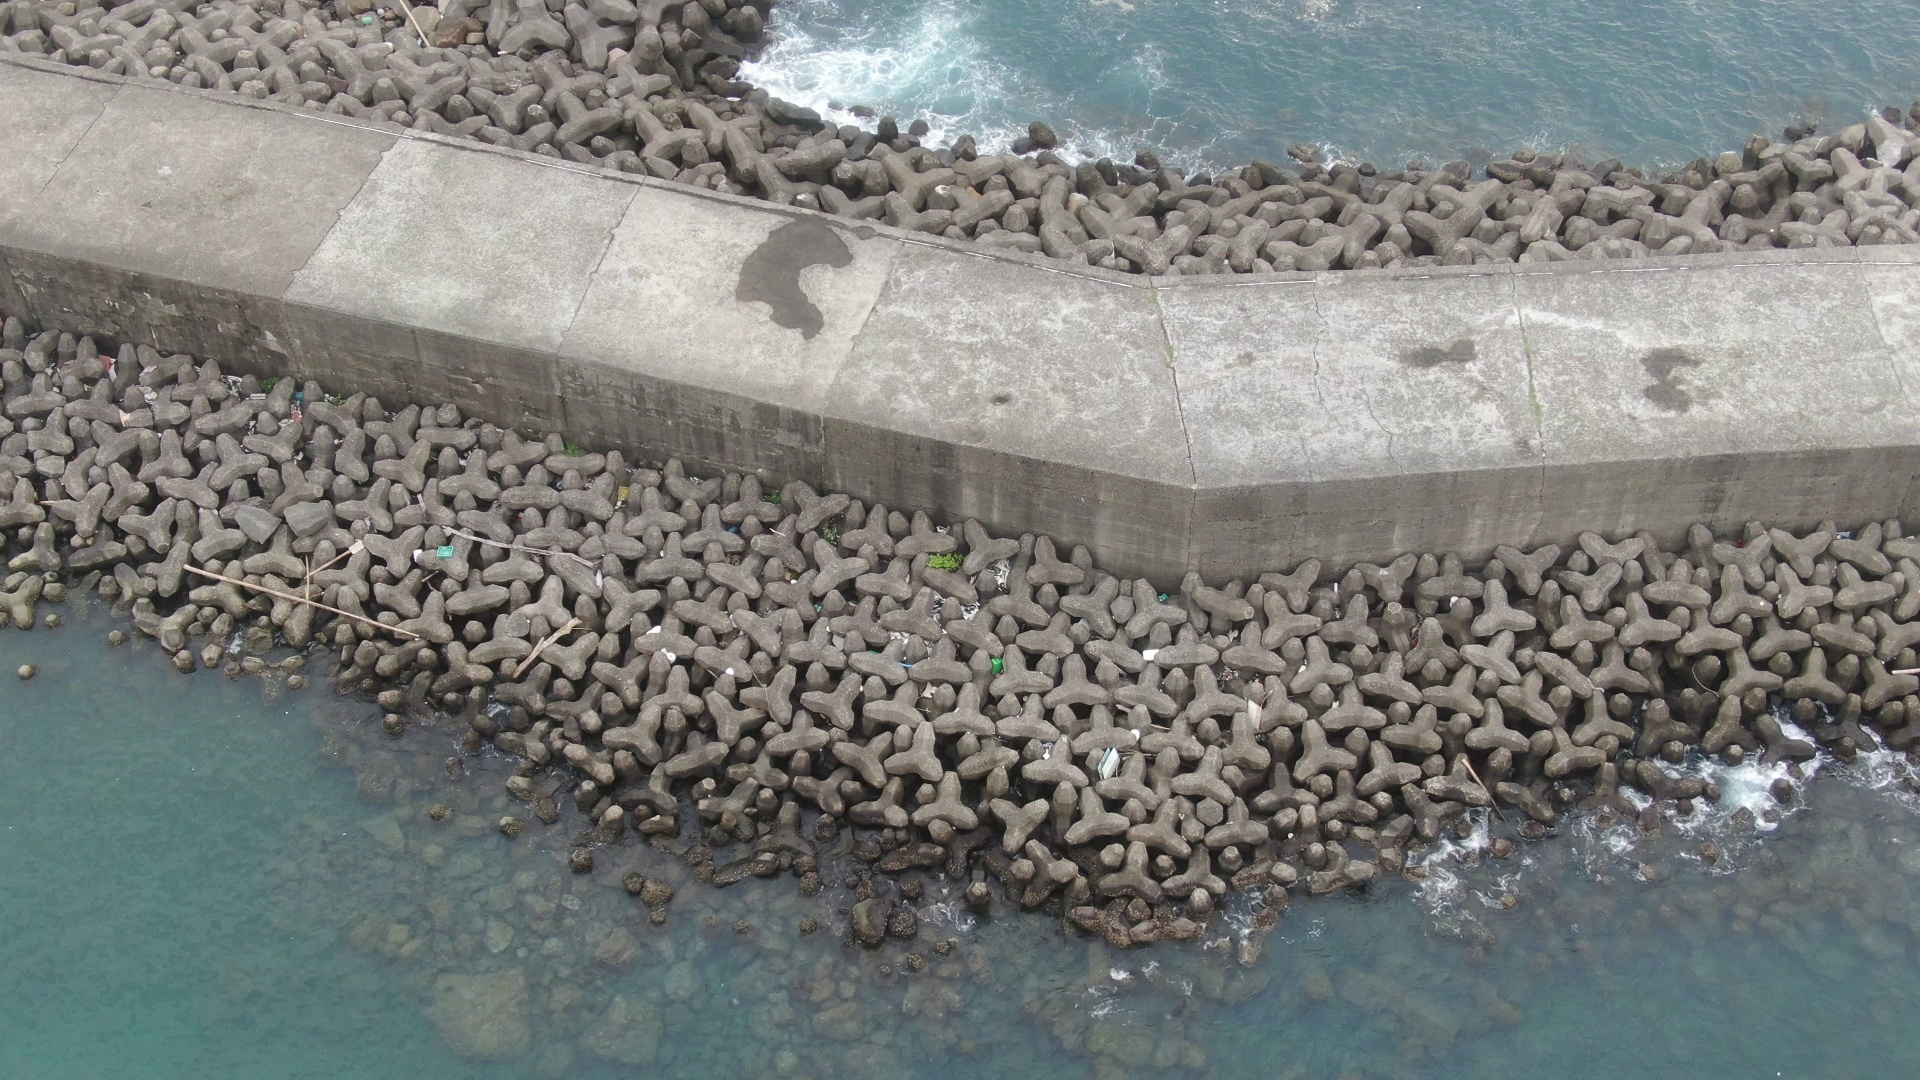garbage: (1087, 741, 1129, 783), (978, 653, 1017, 680), (425, 543, 472, 564)
